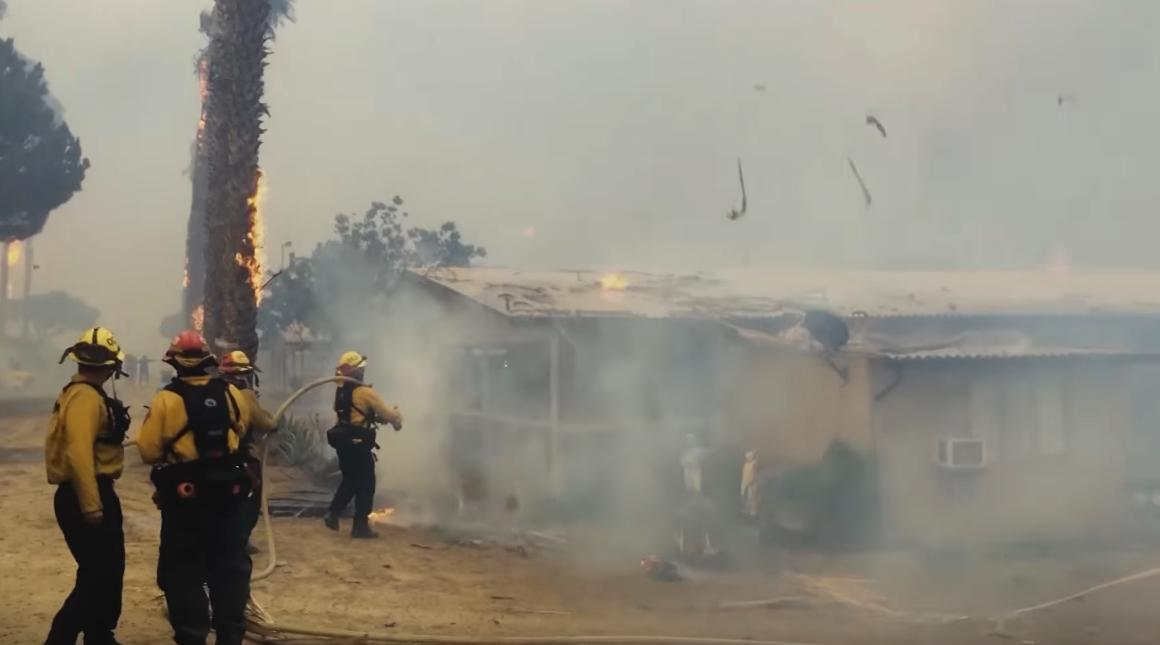smoke: (387, 326, 1159, 549)
